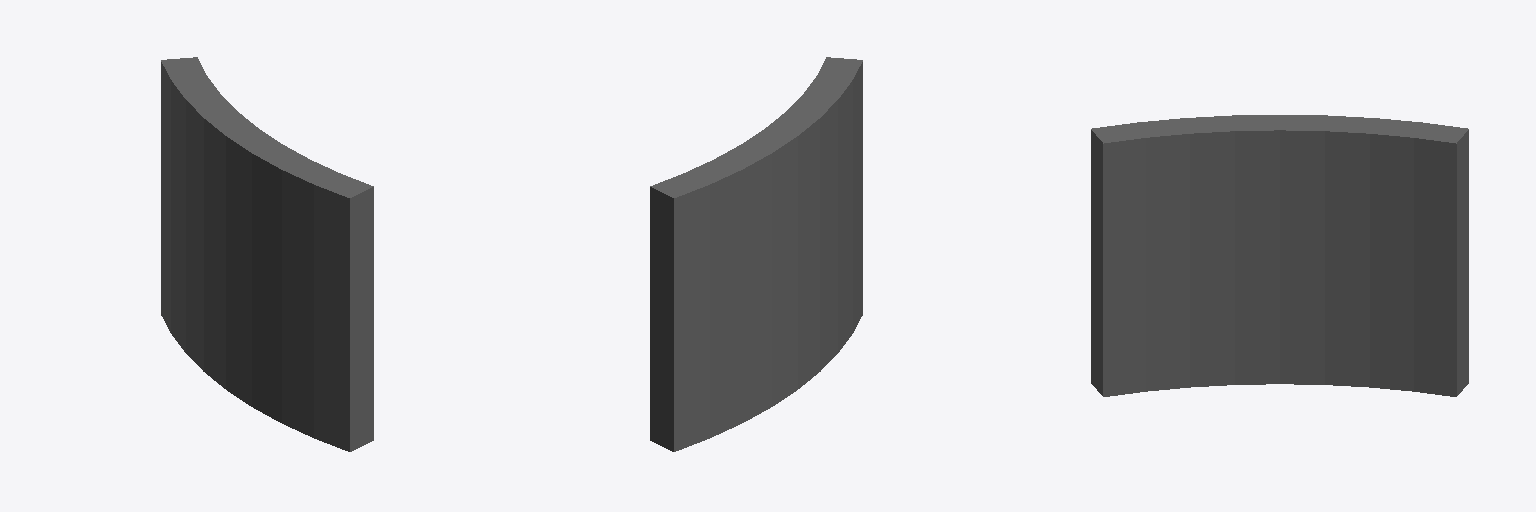
Rendered from interior_curved.obj.
3 views of the same model, side by side, from view 1: azimuth 30°, elevation 25°; view 2: azimuth 150°, elevation 25°; view 3: azimuth 270°, elevation 25° (orthographic).
Visible parts, largest first — view 1: Box016; view 2: Box016; view 3: Box016.
Part boxes in pixels (x1,y1,x2,y2): Box016: (161, 57, 373, 451); Box016: (650, 57, 862, 451); Box016: (1091, 115, 1468, 396).
Bounding box in the file's own units: 28.88 × 118 × 160.